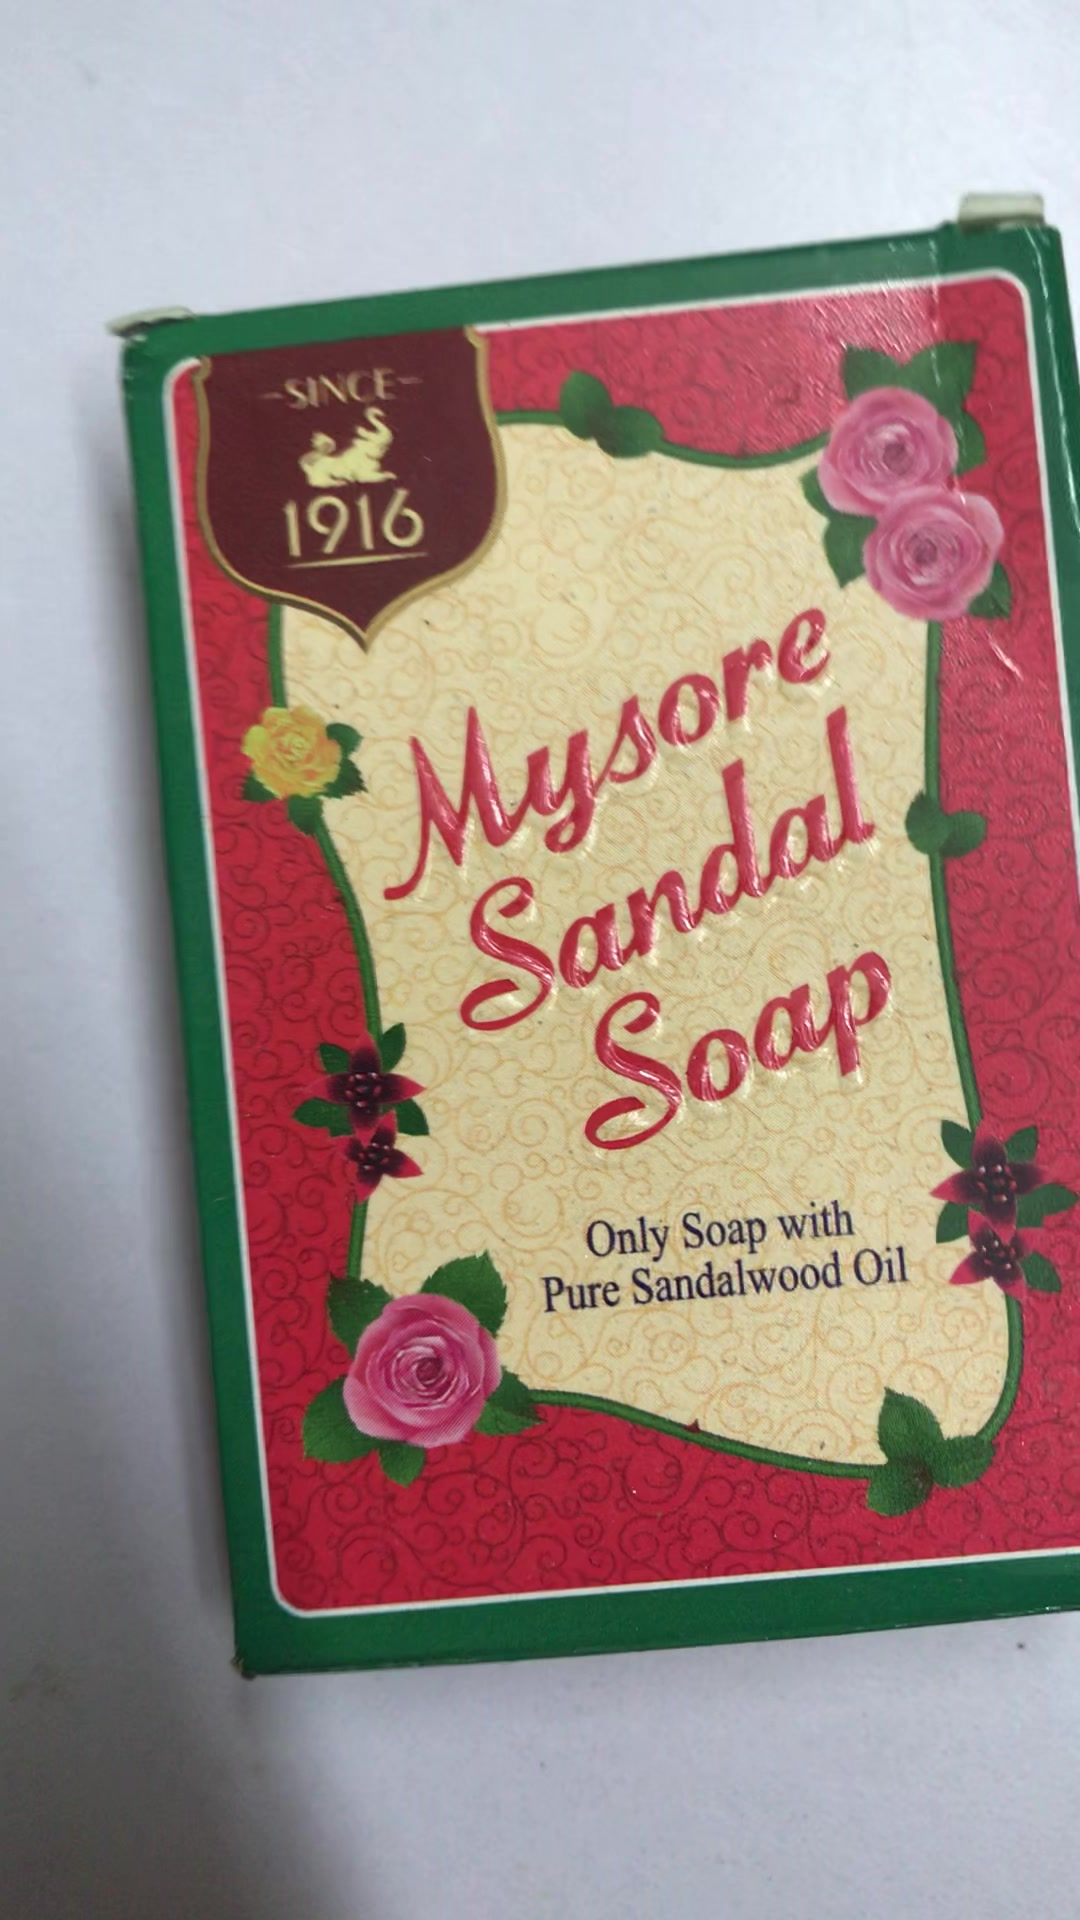mysore sandal soap: (127, 218, 1063, 1675)
